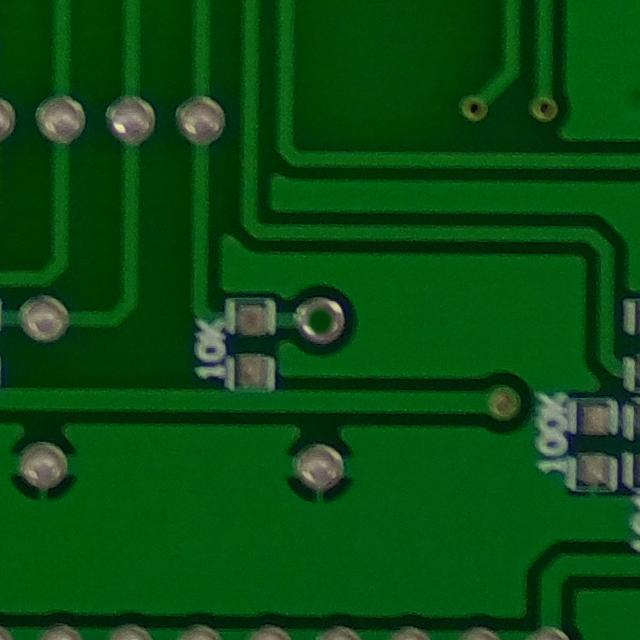missing_hole: (289, 288, 353, 351)
